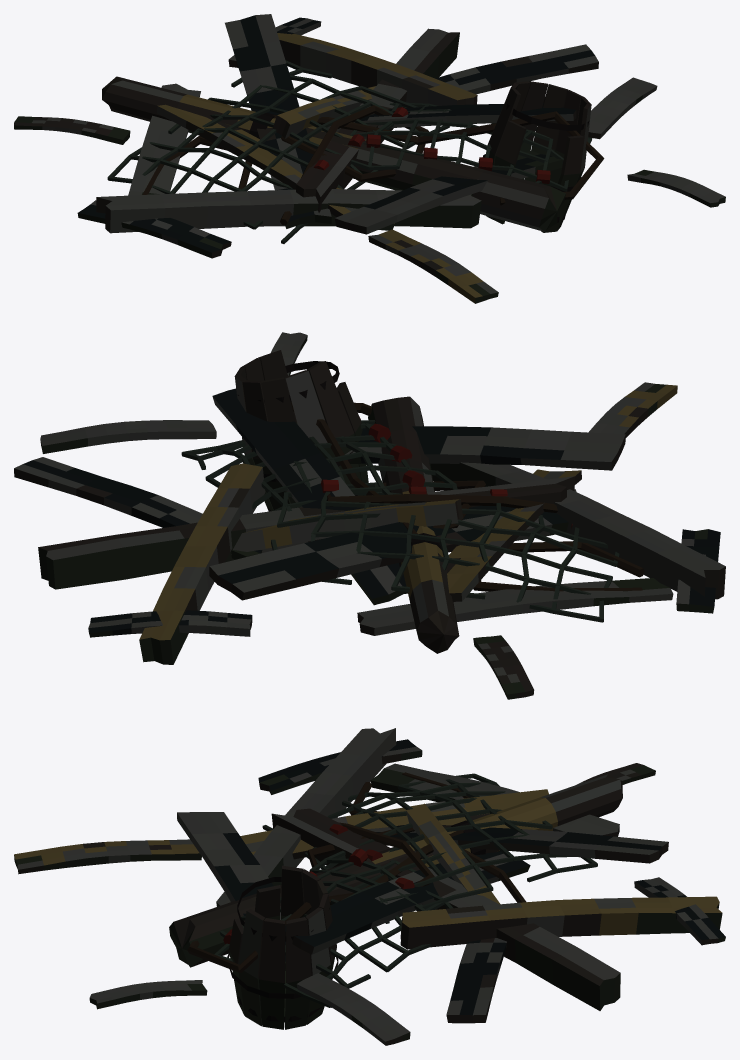
Rendered from debris.fbx.
3 renders of one model, top to bottom at view 1: azimuth 30°, elevation 25°; view 2: azimuth 150°, elevation 25°; view 3: azimuth 270°, elevation 25°, orthographic. The views are drawn at different scales.
Visible parts, largest first — view 1: FloatingNauticalDebris; view 2: FloatingNauticalDebris; view 3: FloatingNauticalDebris.
Part boxes in pixels (x1,y1,x2,y2): FloatingNauticalDebris: [14, 14, 725, 303]; FloatingNauticalDebris: [14, 332, 725, 699]; FloatingNauticalDebris: [14, 728, 725, 1045].
Bounding box in the file's own units: 332 × 75.05 × 335.
